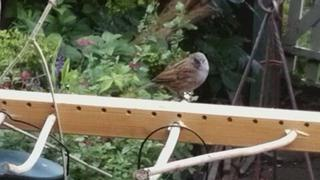dunnock: (138, 51, 209, 103)
